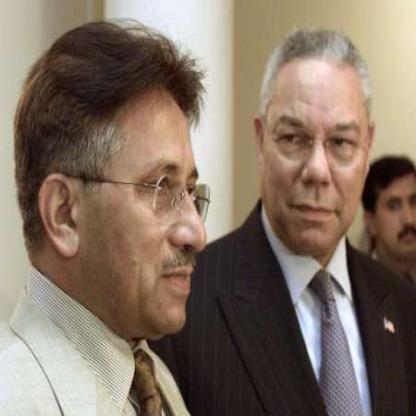face: (77, 56, 228, 345), (261, 38, 373, 254)
